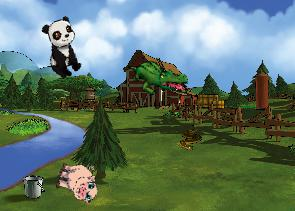crocodile: (127, 57, 189, 98)
panda: (39, 15, 86, 81)
pig: (52, 158, 102, 205)
